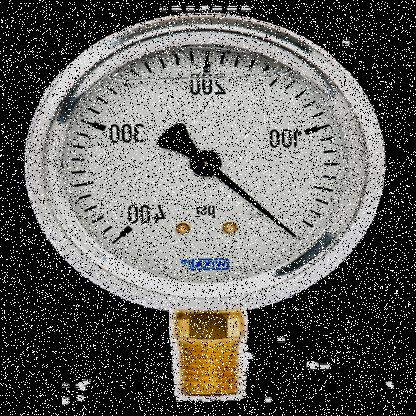needle: (212, 169, 298, 239)
